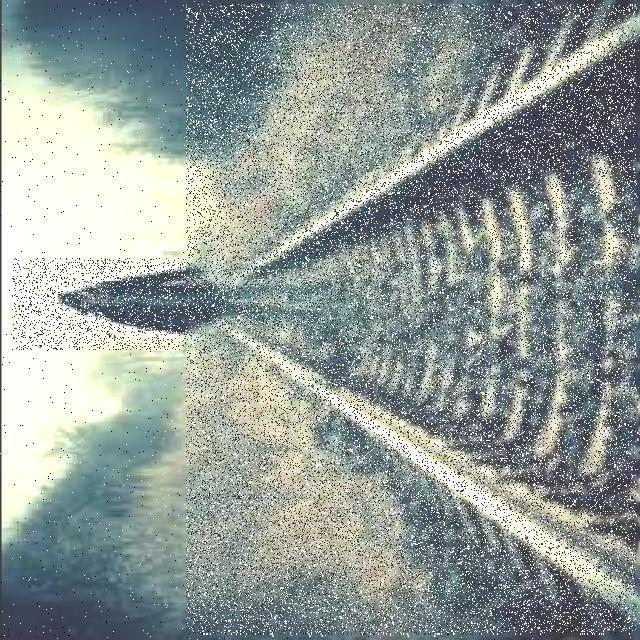rail: (188, 5, 637, 635)
